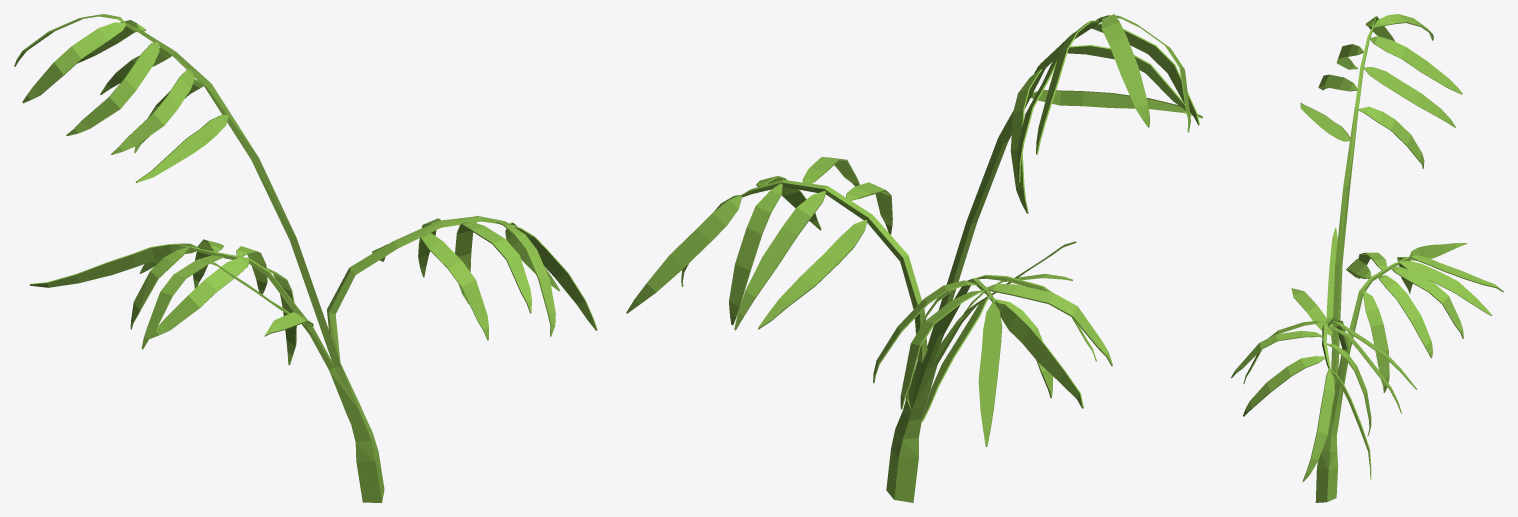
The model's file is fern plant.glb.
The picture shows the model from 3 angles, left to right: view 1: azimuth 30°, elevation 25°; view 2: azimuth 150°, elevation 25°; view 3: azimuth 270°, elevation 25°; orthographic projection. The views are drawn at different scales.
Parts seen in each view (by area): view 1: group191746738, group535367623, group432660515, group928697611, group837450689, group1345636466, group1158689383, group2145352069, group50311005, group1261155474, group256259434, group167149249 (+3 smaller); view 2: group191746738, group948189515, group649434653, group1927955666, group2008995457, group1553806384, group2063027047, group1345636466, group2145352069, group1261155474, group304547616, group2129838671 (+8 smaller); view 3: group191746738, group1167492003, group2116458068, group256259434, group492173252, group543491446, group1374601292, group304547616, group167149249, group2129838671, group50311005, group2145352069 (+13 smaller).
Boxes of the visible parts, x1,y1,x2,y2 form: group191746738: (126,23,509,502); group535367623: (66,41,159,136); group432660515: (22,22,126,103); group928697611: (150,257,249,338); group837450689: (421,232,488,340); group1345636466: (29,243,181,287); group1158689383: (111,70,194,154); group2145352069: (136,115,228,182); group50311005: (461,221,531,313); group1261155474: (141,255,224,349); group256259434: (510,224,597,330); group167149249: (496,222,555,336); group191746738: (741,15,1110,502); group948189515: (626,194,741,313); group649434653: (734,191,826,330); group1927955666: (729,183,782,325); group2008995457: (758,219,867,329); group1553806384: (978,302,1002,446); group2063027047: (1101,14,1149,127); group1345636466: (994,302,1083,408); group2145352069: (1031,90,1202,118); group1261155474: (987,283,1112,366); group304547616: (900,290,984,409); group2129838671: (1010,69,1041,213); group191746738: (1315,26,1410,502); group1167492003: (1363,67,1455,127); group2116458068: (1369,36,1462,94); group256259434: (1302,369,1334,481); group492173252: (1363,291,1389,392); group543491446: (1378,275,1432,358); group1374601292: (1400,260,1492,315); group304547616: (1390,266,1463,338); group167149249: (1243,356,1325,416); group2129838671: (1358,106,1424,168); group50311005: (1231,330,1322,378); group2145352069: (1300,102,1350,141).
Bounding box in the file's own units: 4.5 × 4.24 × 2.63.
